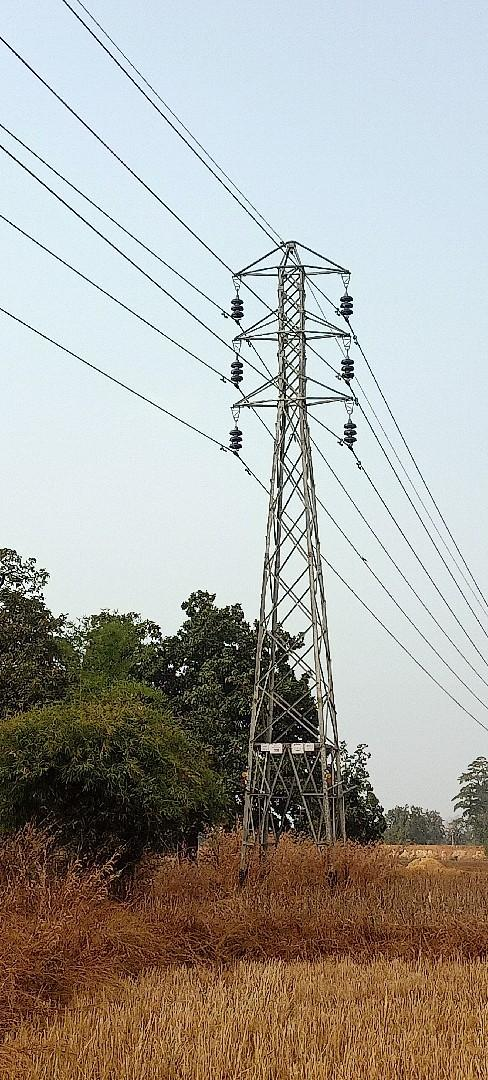GSM Antenna: (221, 237, 365, 769)
